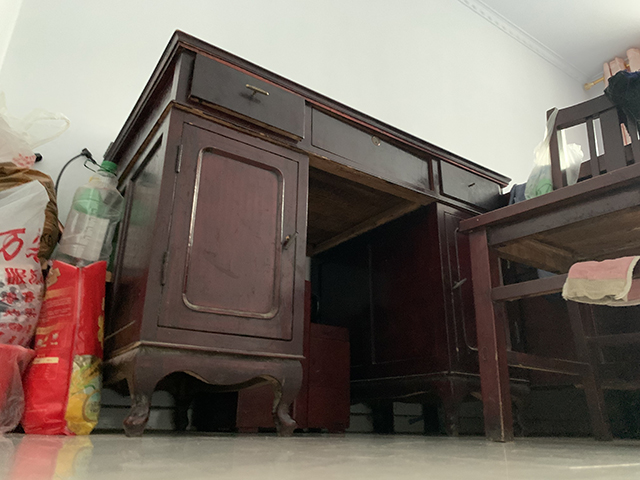stool: (459, 93, 640, 446)
table: (87, 29, 533, 437)
